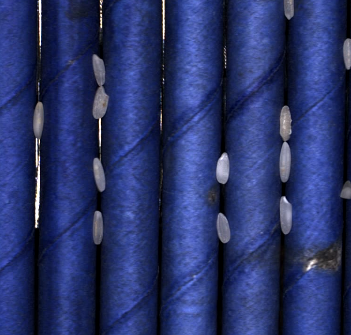broken_grain: (338, 175, 351, 202), (282, 1, 296, 22)
complete_grain: (90, 84, 110, 123), (88, 47, 107, 87), (91, 153, 107, 196), (277, 193, 293, 236), (276, 140, 292, 183), (337, 32, 351, 76), (88, 209, 104, 247), (215, 209, 231, 247), (32, 99, 46, 140)
milky_grain: (214, 149, 230, 187)
yellow_grain: (277, 99, 293, 142)
